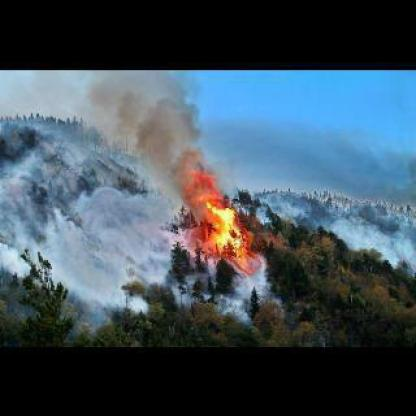fire: (200, 197, 248, 257)
